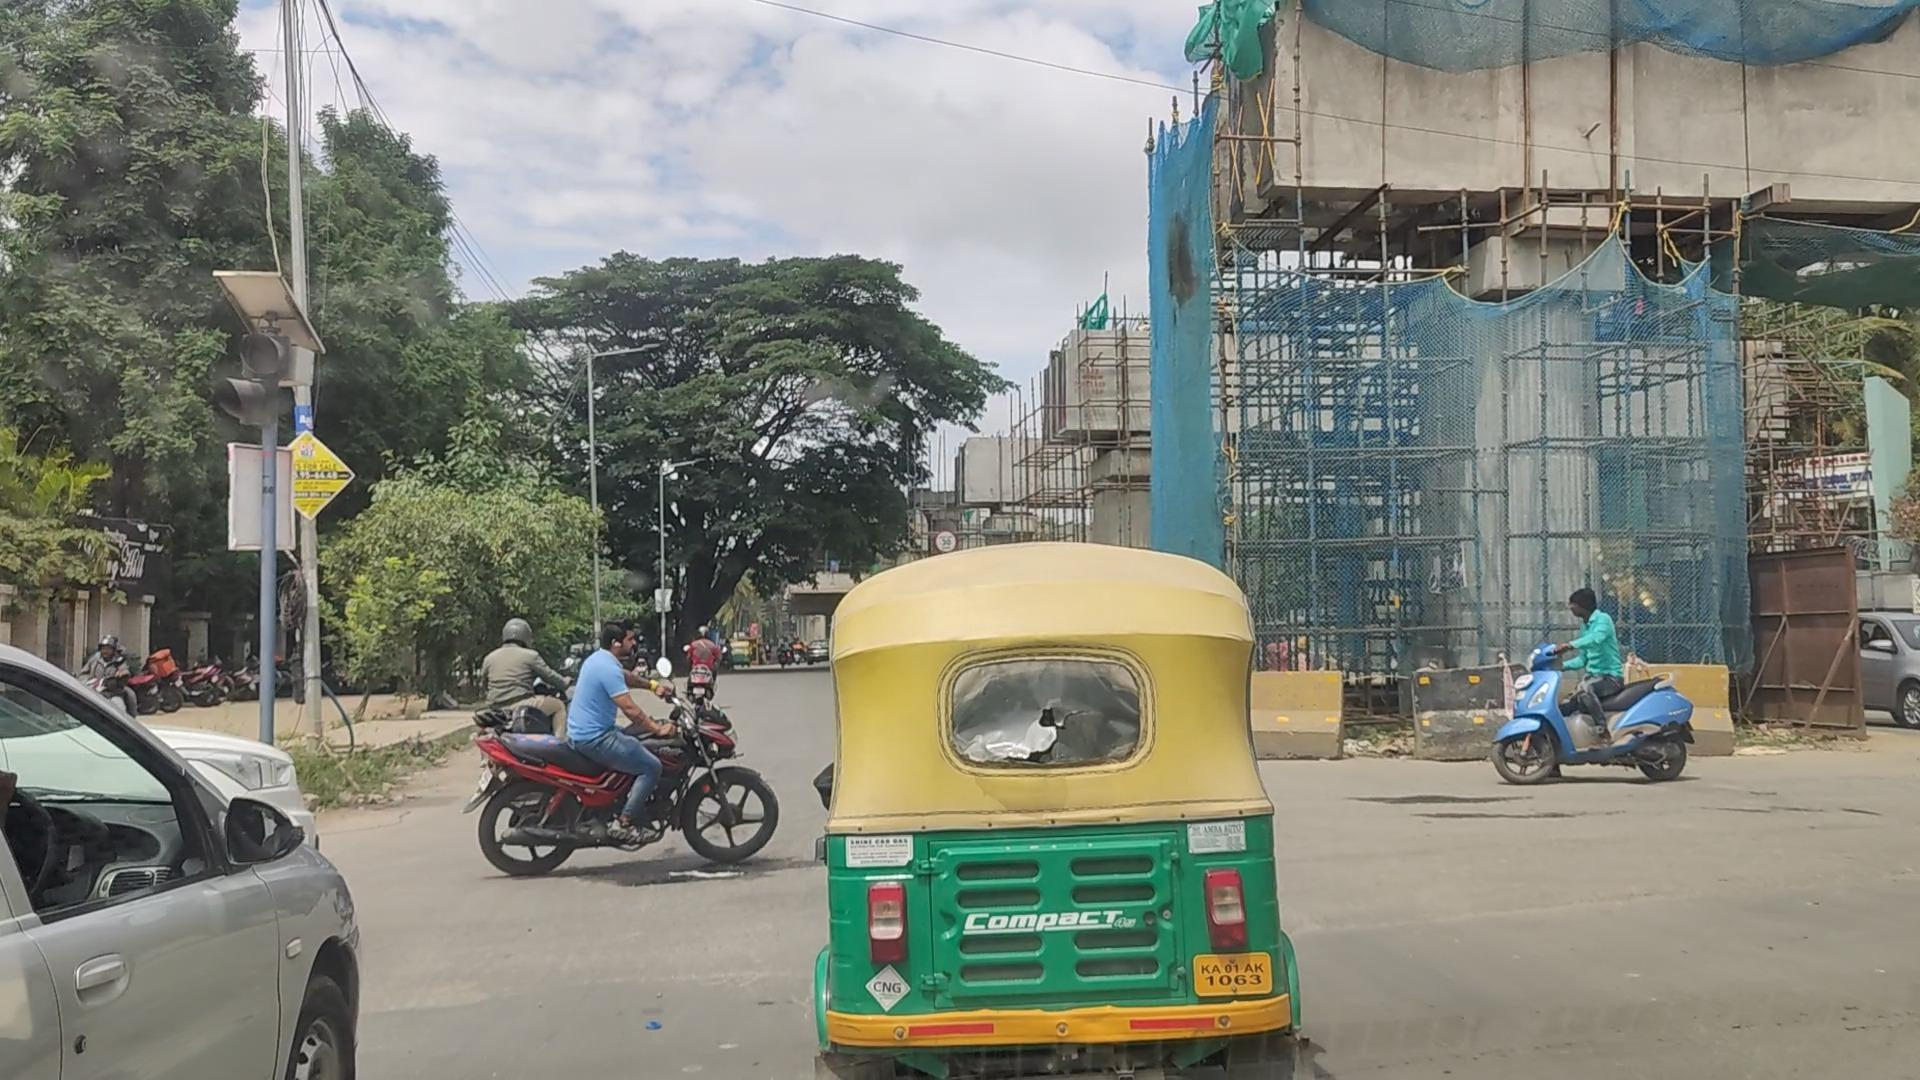LMV: (832, 545, 1279, 1080), (522, 600, 749, 853), (1502, 592, 1677, 803)
RoadDamages: (625, 824, 786, 889)
